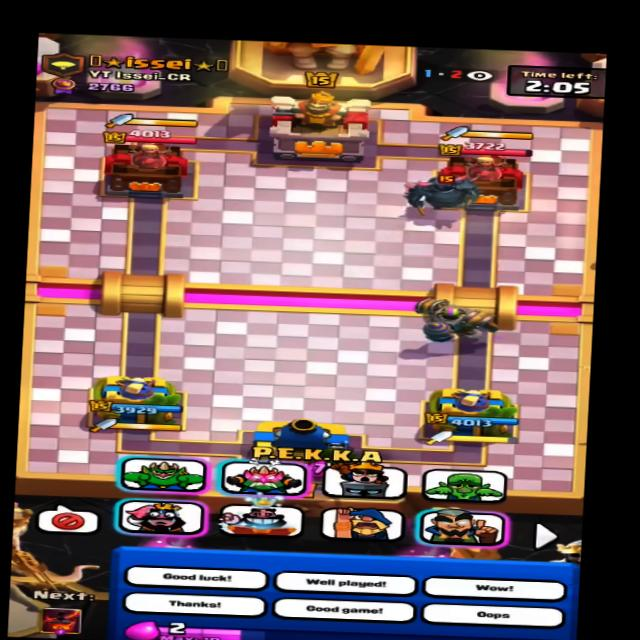pekka: (398, 170, 485, 217)
